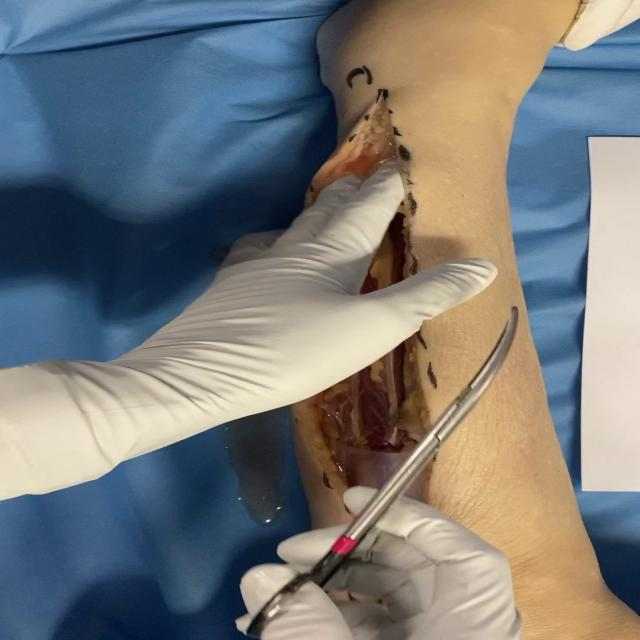scissors: (246, 304, 522, 640)
